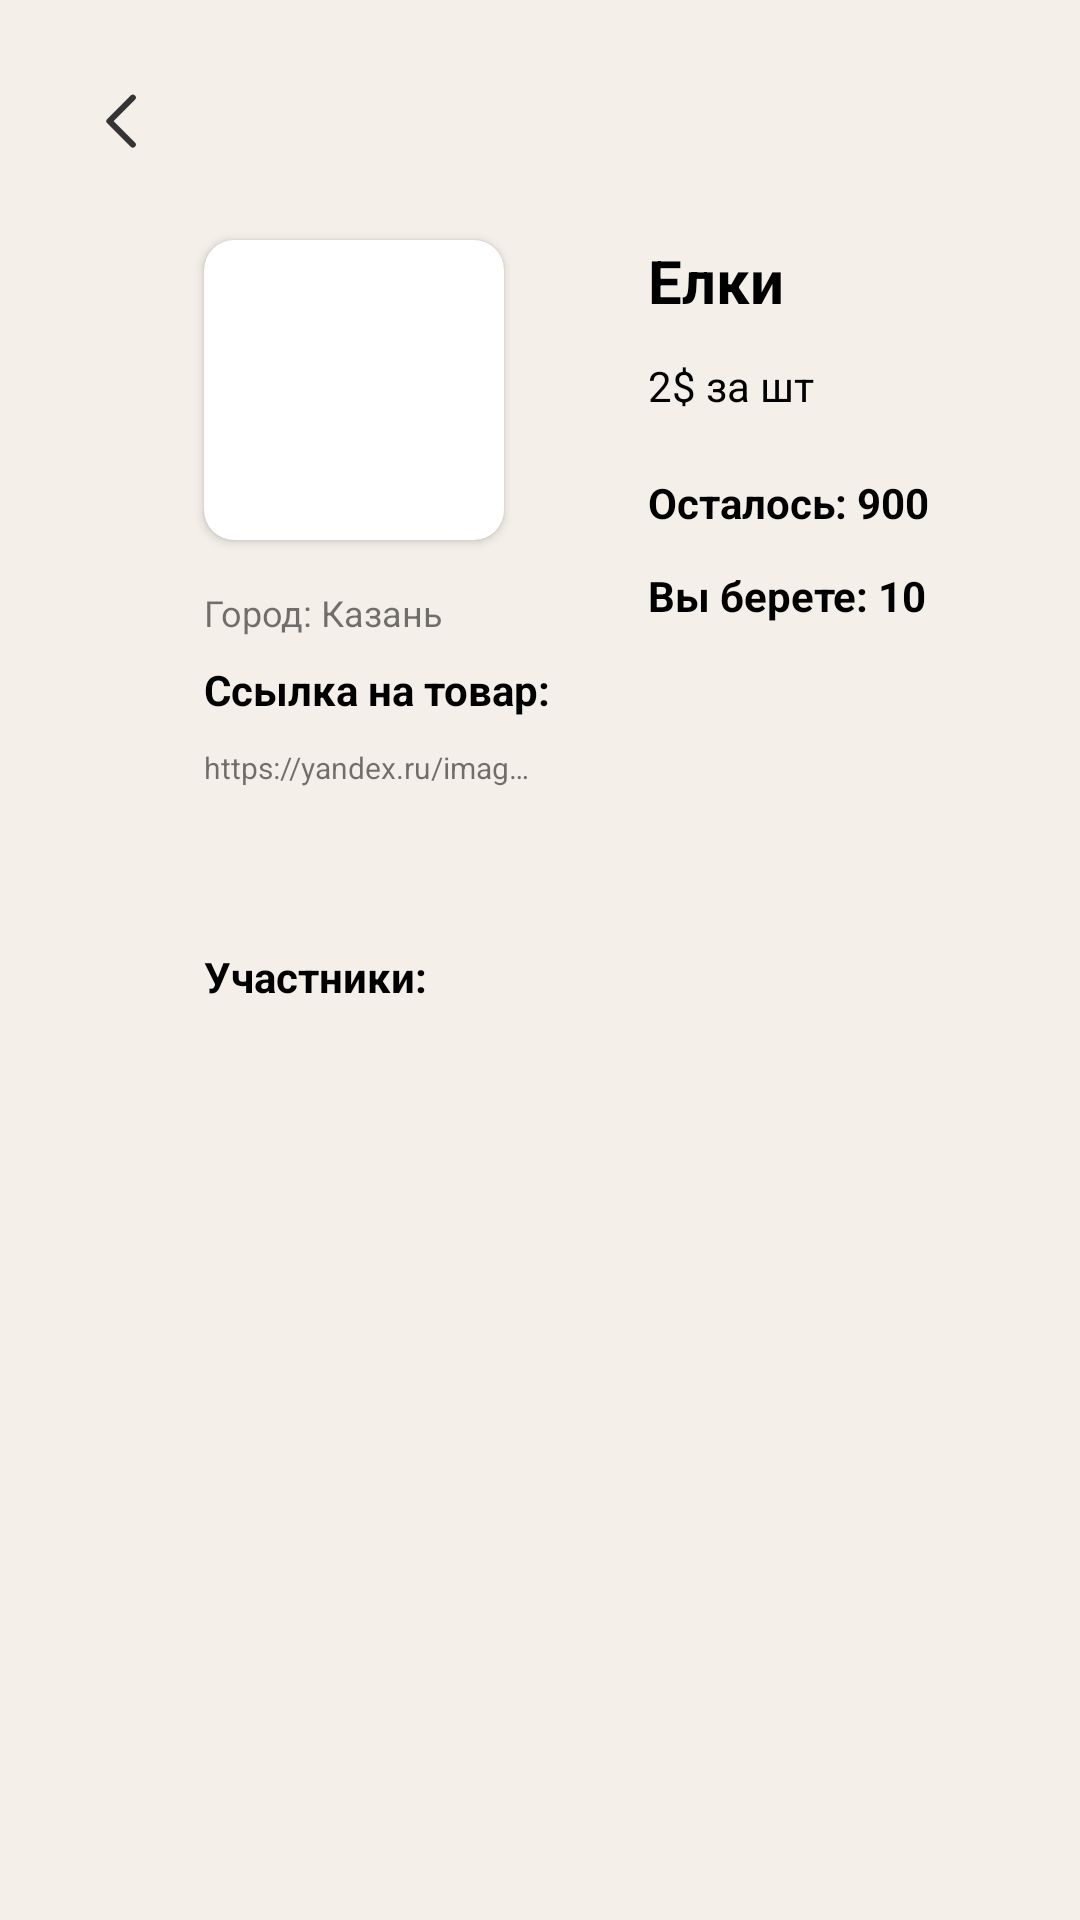

Where icons sit on this 1080*1920 app screen, as [x1, y1, x2, y2]:
back: [106, 94, 136, 148]
